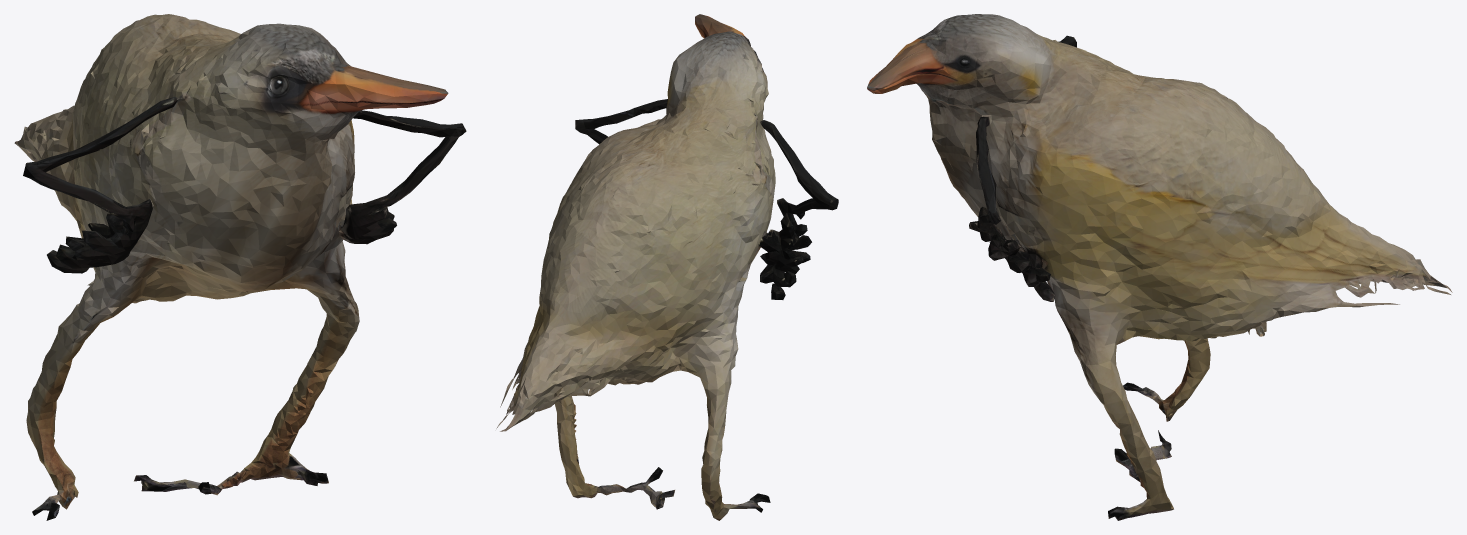
File: Confident_Heron_Stanc_0425134401_texture.fbx
3 renders of one model, left to right at view 1: azimuth 30°, elevation 25°; view 2: azimuth 150°, elevation 25°; view 3: azimuth 270°, elevation 25°, orthographic. The views are drawn at different scales.
Visible parts, largest first — view 1: temp; view 2: temp; view 3: temp.
Boxes of the visible parts, x1,y1,x2,y2 form: temp: [14, 14, 466, 520]; temp: [496, 14, 838, 520]; temp: [867, 14, 1452, 520].
Bounding box in the file's own units: 129 × 171 × 197.
Materials: 1 (1 with a texture image).
